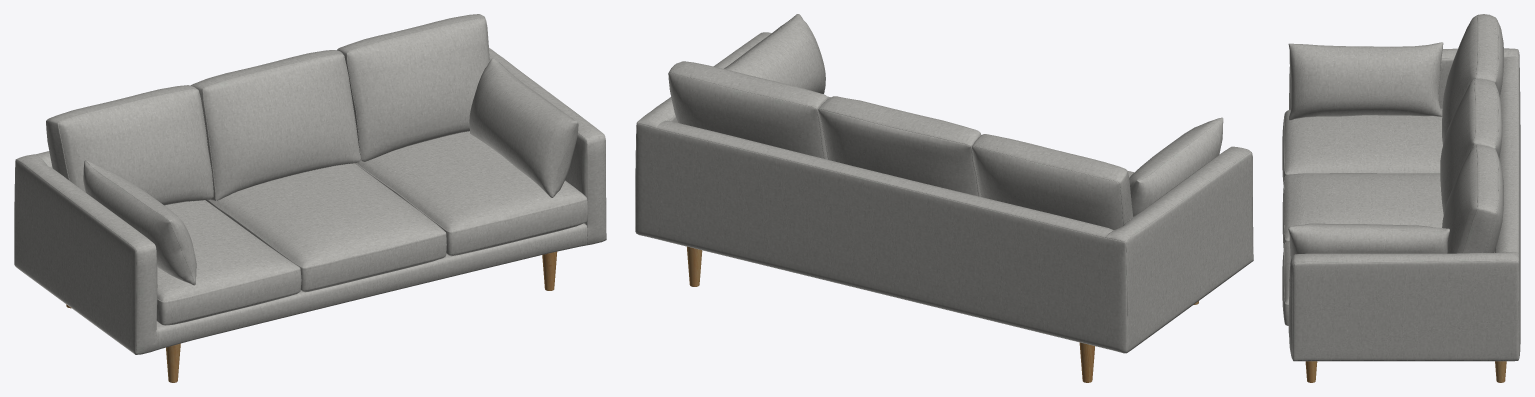
Rendered from urban-barn-sofa-4.glb.
3 renders of one model, left to right at view 1: azimuth 30°, elevation 25°; view 2: azimuth 150°, elevation 25°; view 3: azimuth 270°, elevation 25°, orthographic. The views are drawn at different scales.
Parts seen in each view (by area): view 1: TMPL2874_FRAS3SNT_Seater_002, TMPL2874_FRAS3SNT_Legs_001; view 2: TMPL2874_FRAS3SNT_Seater_002, TMPL2874_FRAS3SNT_Legs_001; view 3: TMPL2874_FRAS3SNT_Seater_002, TMPL2874_FRAS3SNT_Legs_001.
Part boxes in pixels (<box>): TMPL2874_FRAS3SNT_Seater_002: <box>14,14,606,354</box>; TMPL2874_FRAS3SNT_Legs_001: <box>66,251,557,382</box>; TMPL2874_FRAS3SNT_Seater_002: <box>635,14,1253,353</box>; TMPL2874_FRAS3SNT_Legs_001: <box>687,246,1198,382</box>; TMPL2874_FRAS3SNT_Seater_002: <box>1282,14,1520,361</box>; TMPL2874_FRAS3SNT_Legs_001: <box>1305,361,1506,382</box>.
Size of the model in its own units: 199 by 81.68 by 93.79.
Materials: 2 (2 with a texture image).
